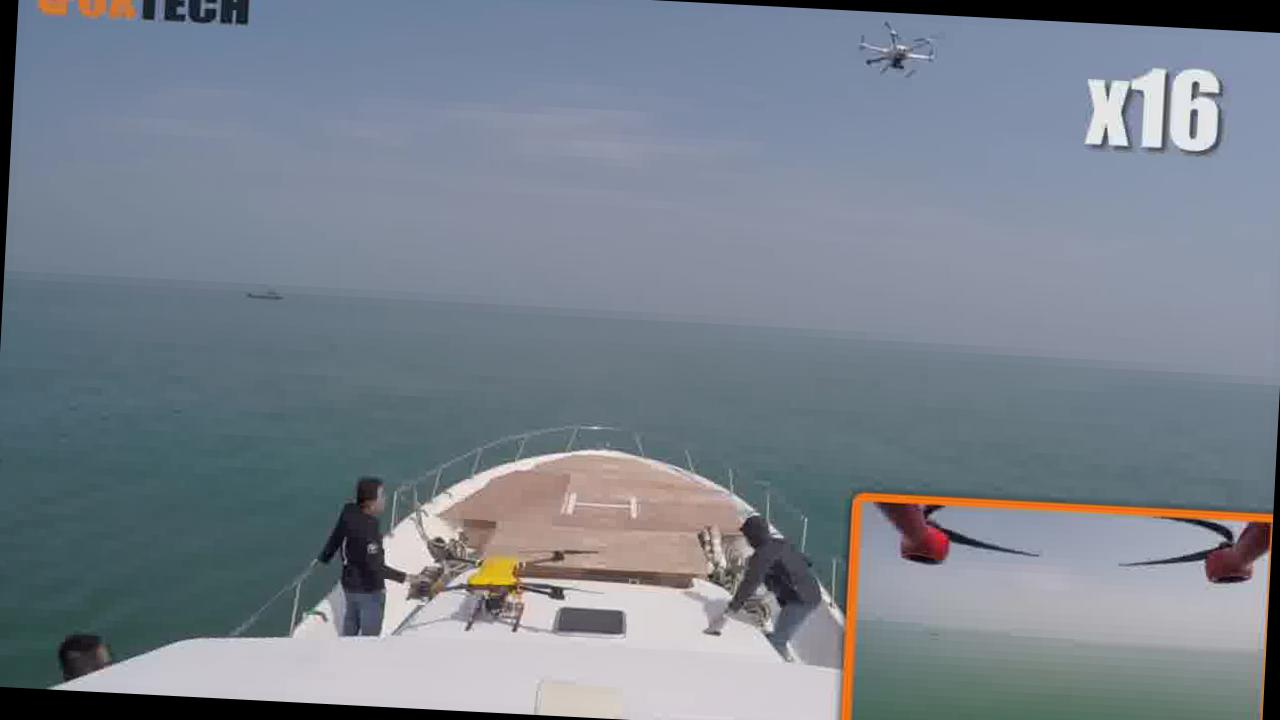drone: (847, 13, 939, 84)
